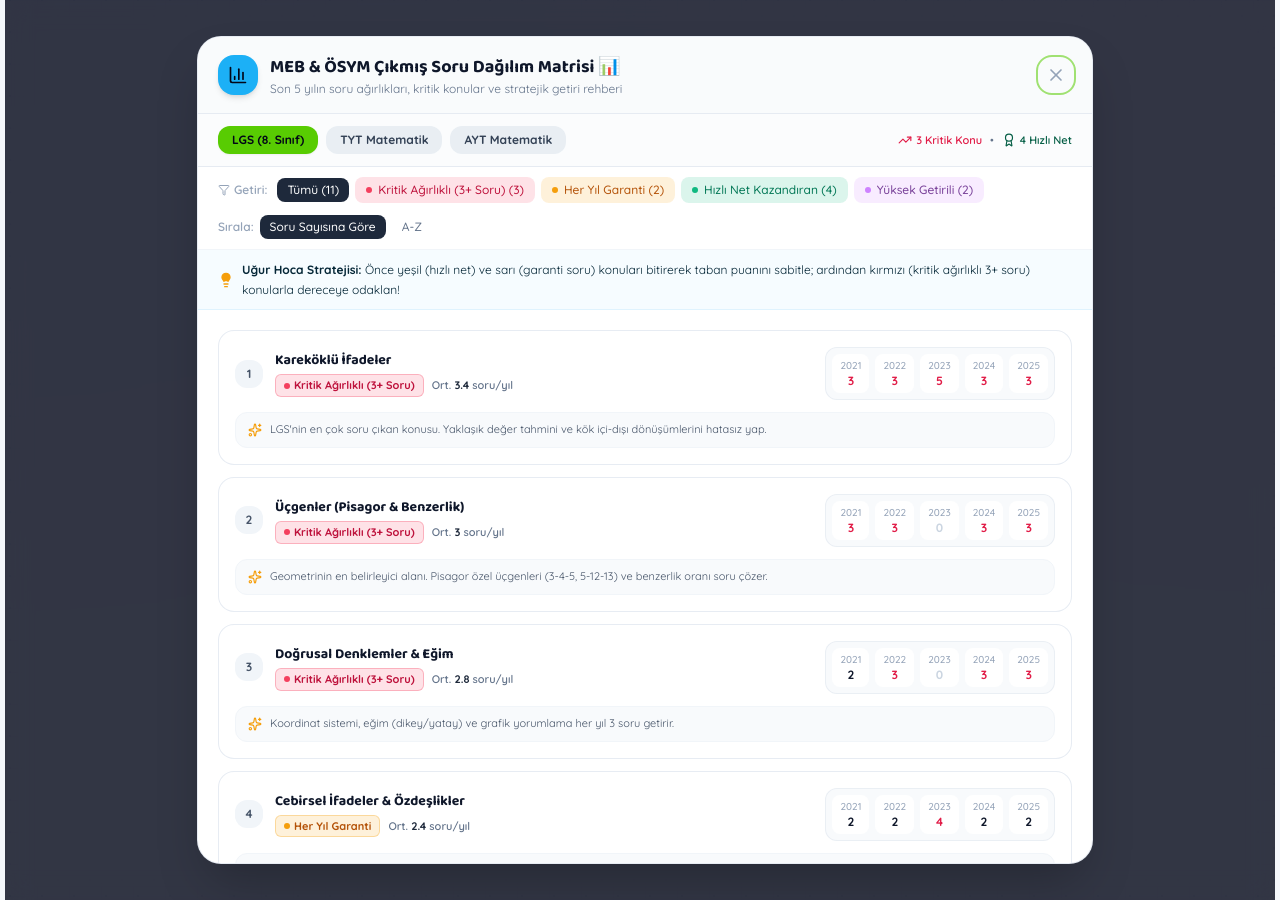
Test case: ExamTopicWeightMatrixModal › switches to TYT and displays TYT specific topics
This screenshot has width=1280, height=900.
Click the button "TYT Matematik" at x=384, y=140, box [326, 126, 442, 154]
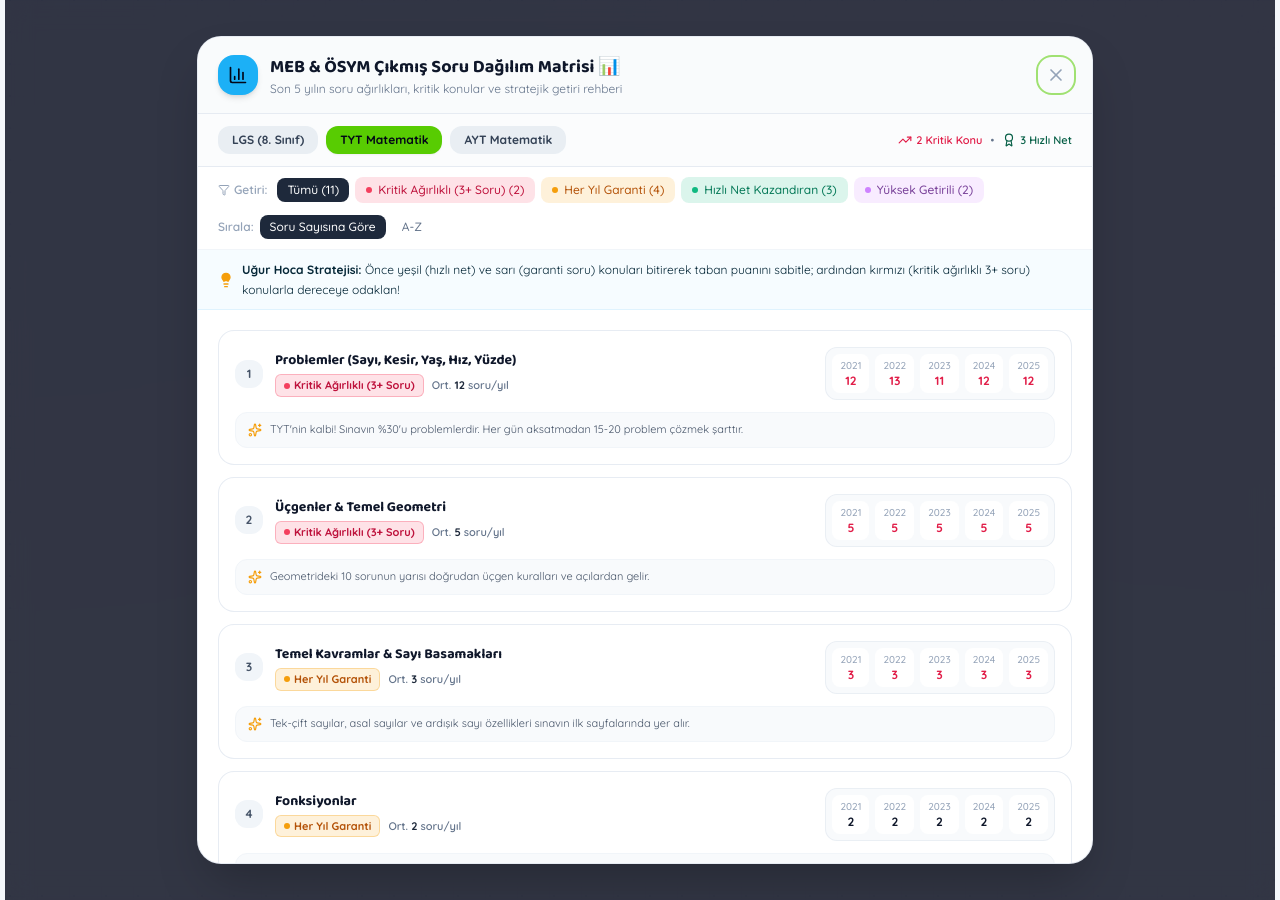
expect the heading "Problemler (Sayı, Kesir, Yaş, Hız, Yüzde)" is shown: met, box [275, 350, 516, 370]
